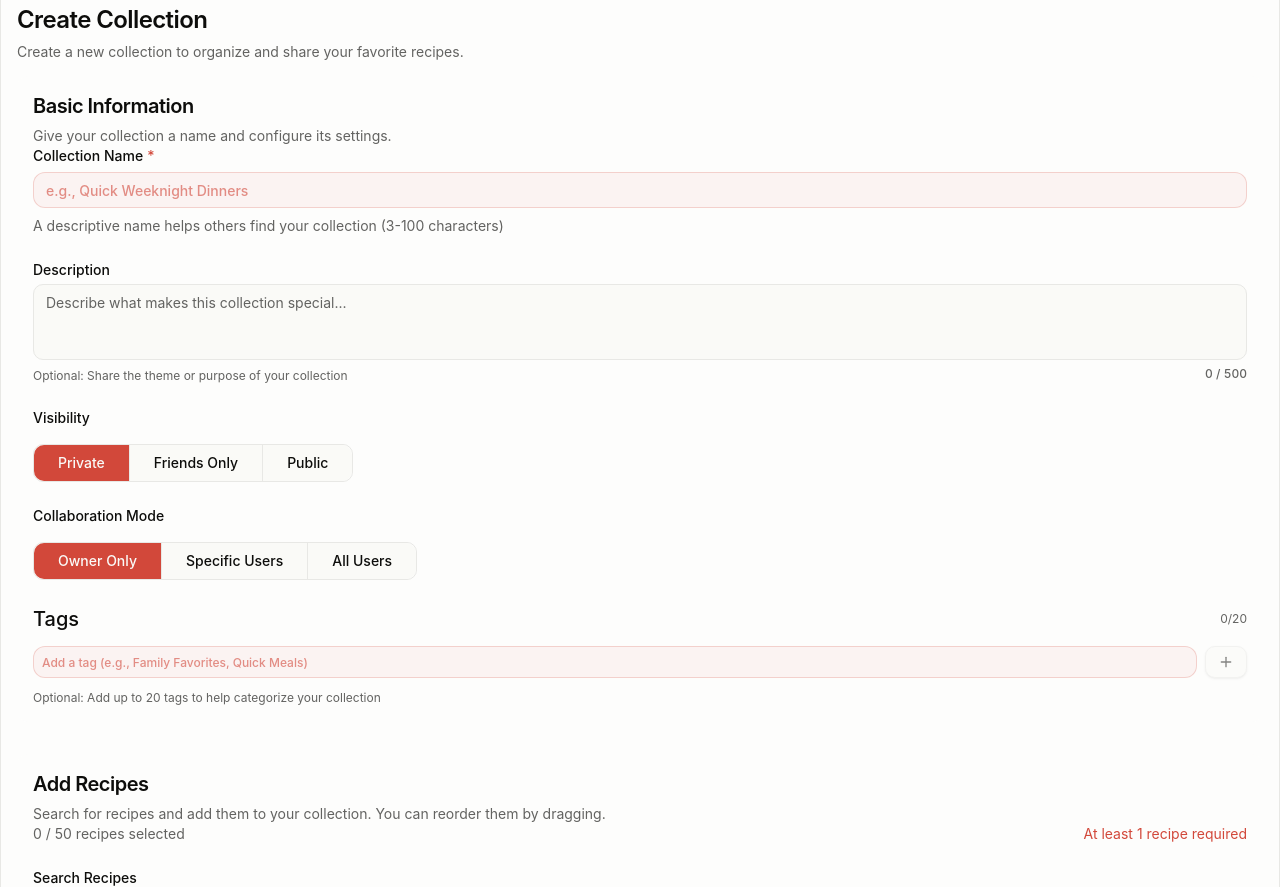
Test: CreateCollectionForm › Draft Functionality › should show Save Draft button when form has changes
expect the button "save draft" is not shown: met
// Make changes
Type "New Collection" into the field labelled "Collection Name". click: (640, 190)
box: left=33, top=172, right=1247, bottom=208
(page scrolled)
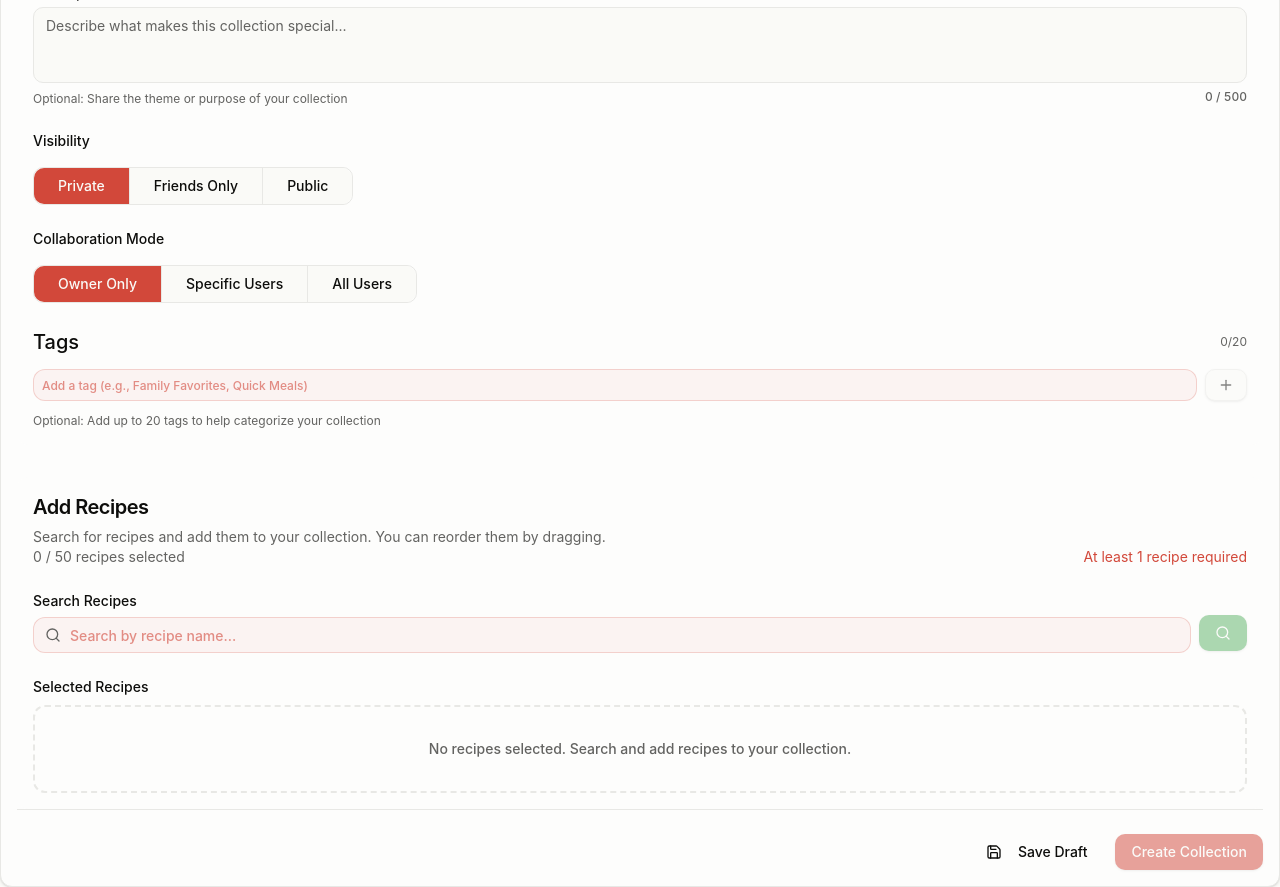
expect the button "Save Draft" is shown: met, box left=970, top=834, right=1103, bottom=870
